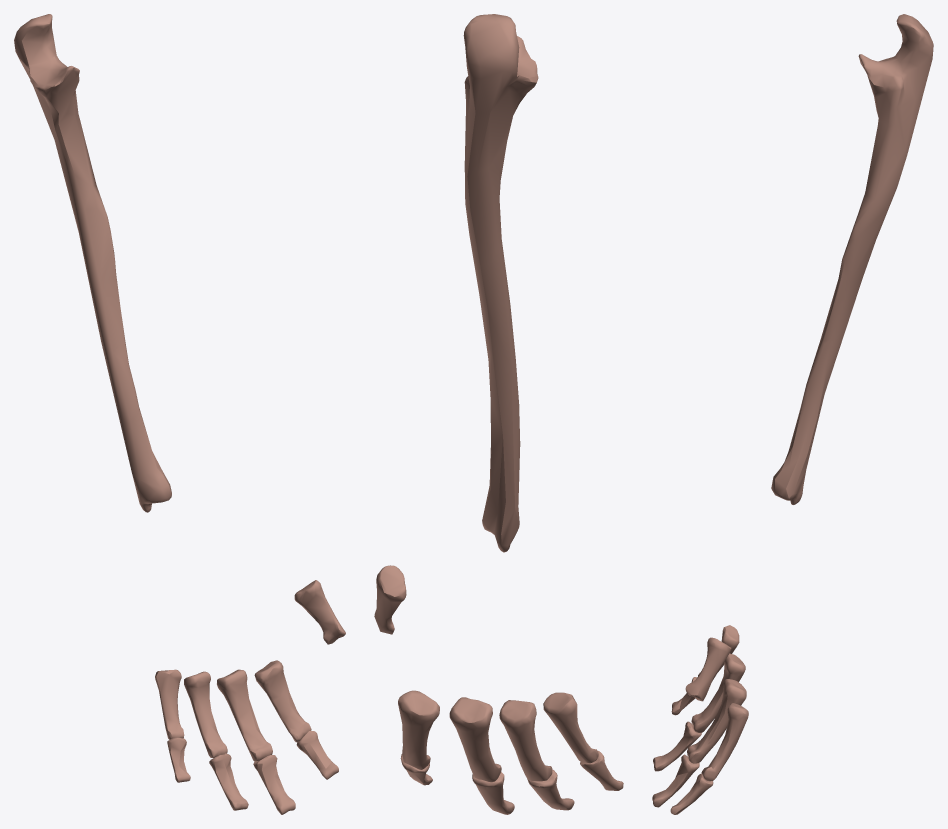
The model's file is left-arm-1.glb.
3 renders of one model, left to right at view 1: azimuth 30°, elevation 25°; view 2: azimuth 150°, elevation 25°; view 3: azimuth 270°, elevation 25°, orthographic. The views are drawn at different scales.
Visible parts, largest first — view 1: FJ3286, FJ3316, FJ3313, FJ3317, FJ3318, FJ3314, FJ3299, FJ3291, FJ3296, FJ3297; view 2: FJ3286, FJ3316, FJ3317, FJ3313, FJ3314, FJ3318, FJ3299, FJ3291, FJ3297; view 3: FJ3286, FJ3316, FJ3313, FJ3318, FJ3317, FJ3299, FJ3291, FJ3296.
Boxes of the visible parts, x1,y1,x2,y2 form: FJ3286: [14, 14, 171, 512]; FJ3316: [217, 669, 272, 761]; FJ3313: [254, 660, 311, 742]; FJ3317: [184, 671, 227, 757]; FJ3318: [294, 580, 345, 644]; FJ3314: [155, 669, 184, 739]; FJ3299: [253, 755, 295, 814]; FJ3291: [209, 753, 248, 810]; FJ3296: [296, 731, 338, 779]; FJ3297: [167, 737, 190, 782]; FJ3286: [463, 14, 538, 552]; FJ3316: [449, 697, 501, 782]; FJ3317: [499, 700, 552, 781]; FJ3313: [398, 690, 439, 769]; FJ3314: [543, 692, 598, 763]; FJ3318: [374, 565, 406, 634]; FJ3299: [472, 772, 514, 814]; FJ3291: [527, 769, 574, 810]; FJ3297: [580, 750, 623, 790]; FJ3286: [771, 14, 933, 504]; FJ3316: [687, 679, 746, 763]; FJ3313: [701, 703, 748, 781]; FJ3318: [685, 637, 731, 701]; FJ3317: [691, 653, 745, 732]; FJ3299: [652, 754, 699, 807]; FJ3291: [653, 721, 701, 771]; FJ3296: [670, 773, 713, 814].
Size of the model in its own units: 0.1217 by 0.3901 by 0.1363.
